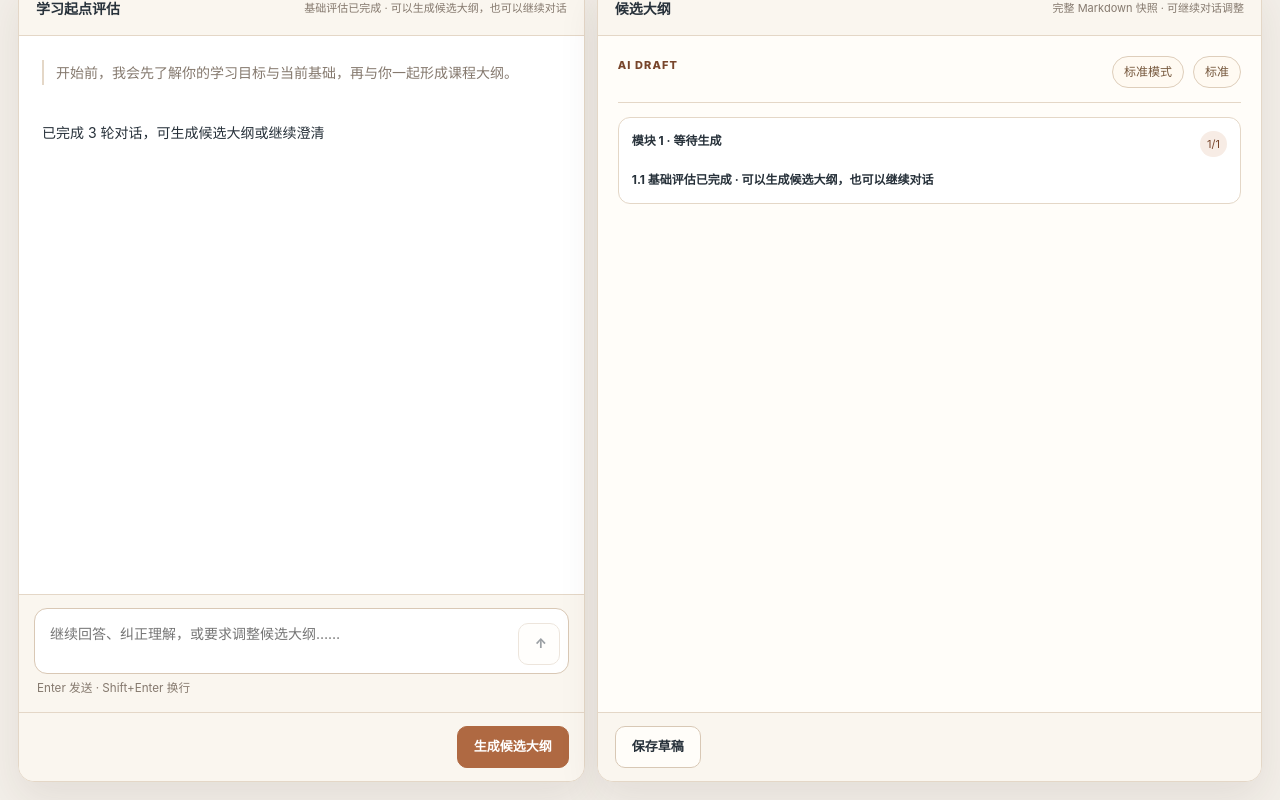
Test: CourseAuthoring page › shows candidate generation feedback before the request is accepted
(page scrolled)
Click the button "生成候选大纲": [513, 746] box [457,726,569,768]
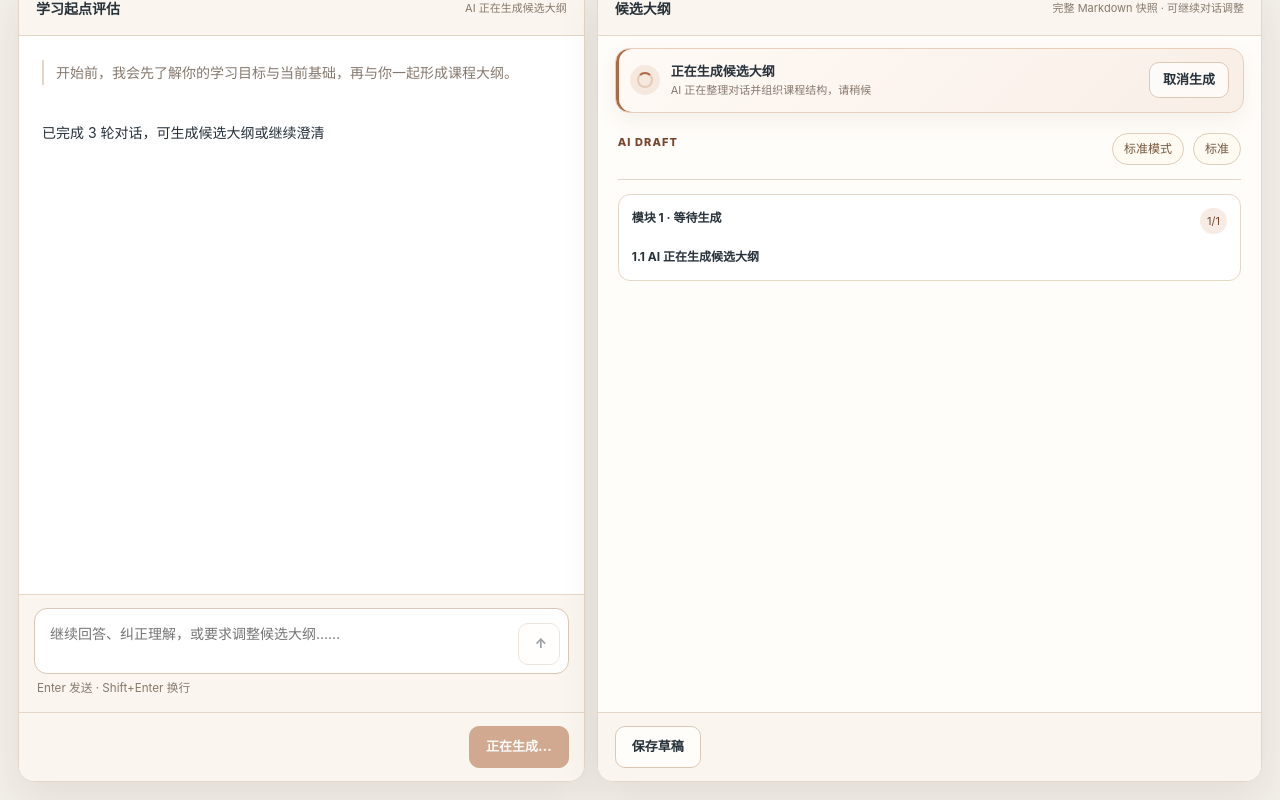
Expected: the message named "候选大纲生成状态" shows "正在生成候选大纲", [671,62,775,78]
